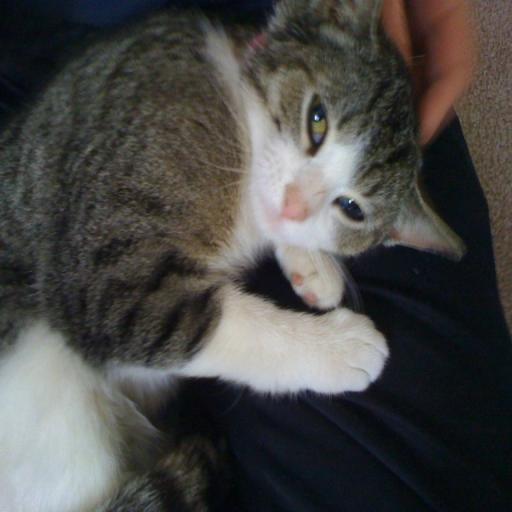cat: (0, 0, 467, 512)
